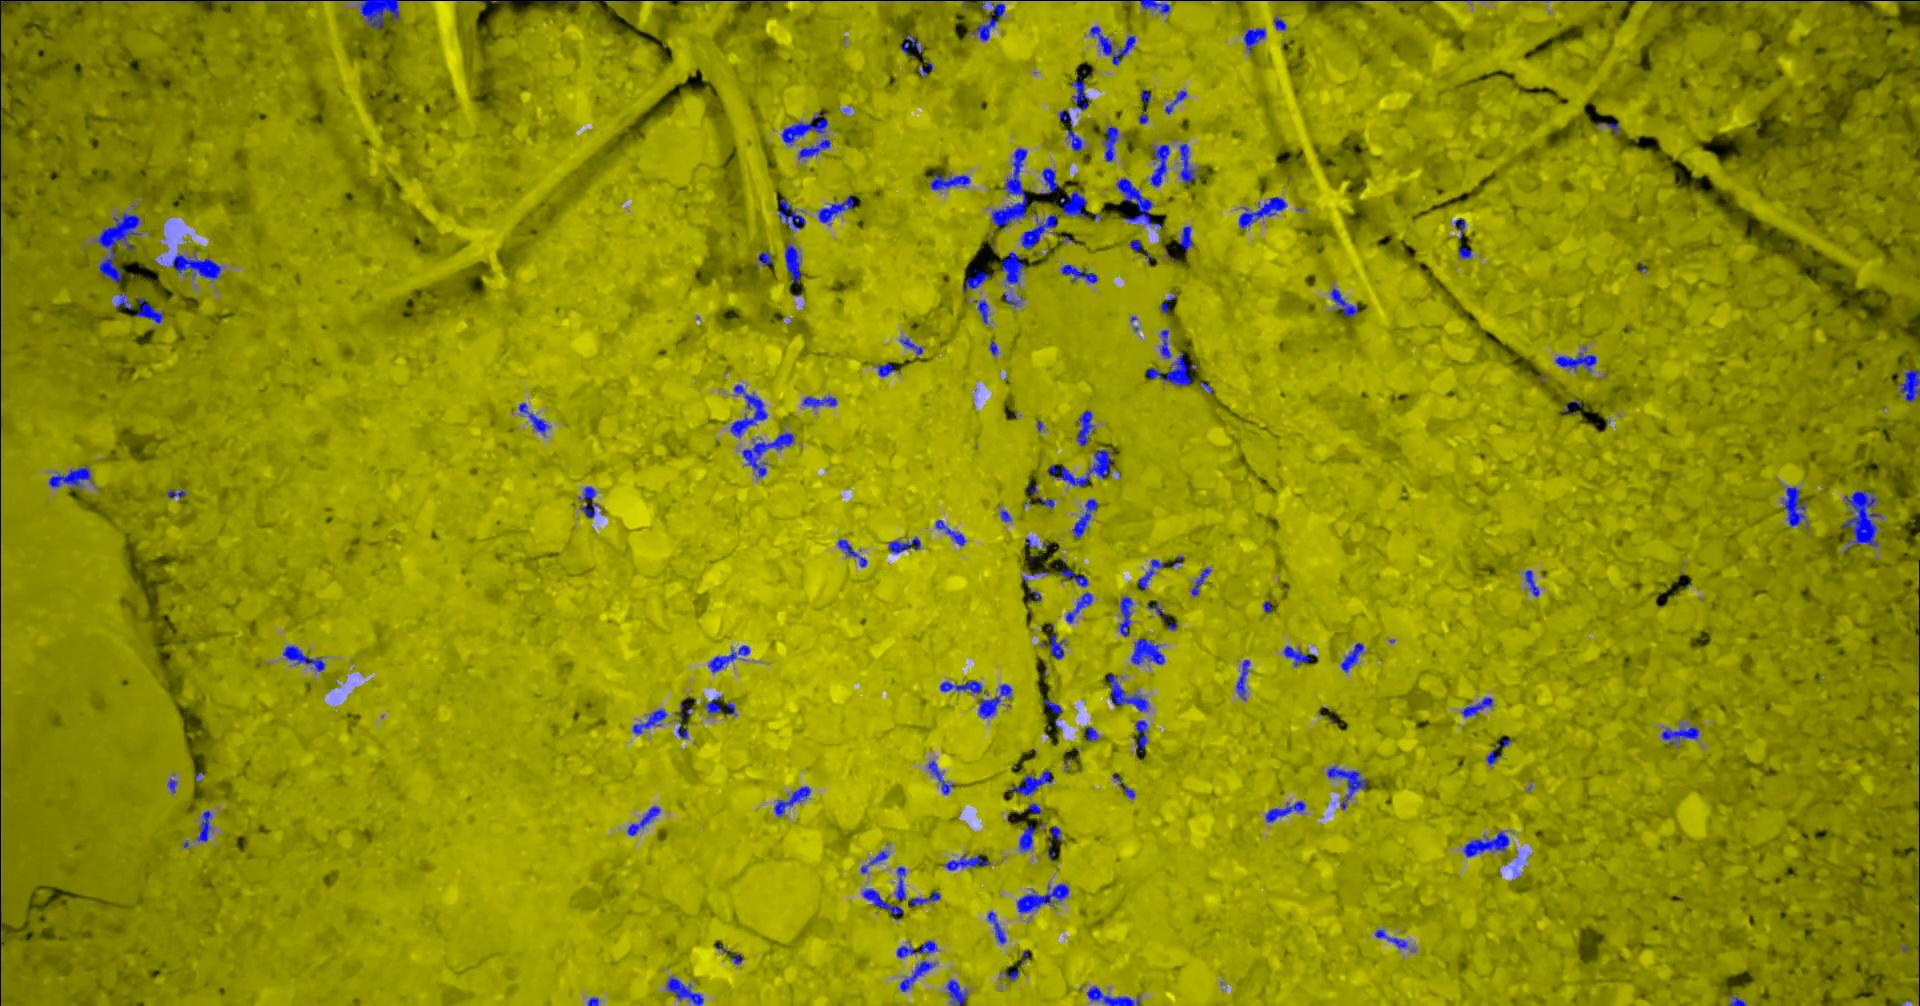ant: (990, 147, 1031, 227), (1048, 448, 1114, 486), (742, 432, 794, 478), (1116, 177, 1161, 229), (729, 384, 767, 437), (1326, 763, 1368, 809), (1090, 25, 1135, 64), (894, 866, 940, 904), (1145, 352, 1196, 385), (1106, 673, 1148, 711), (1238, 196, 1286, 229), (1016, 883, 1068, 912), (781, 111, 827, 144), (171, 253, 221, 279), (1020, 213, 1057, 249), (861, 888, 902, 920), (1006, 768, 1053, 795), (1463, 829, 1509, 856), (971, 3, 1004, 39), (358, 0, 399, 29), (1070, 498, 1098, 539), (978, 683, 1011, 718), (707, 645, 749, 672), (817, 194, 855, 224), (665, 976, 703, 1005), (899, 960, 935, 991), (773, 786, 810, 815), (282, 645, 324, 671), (1086, 986, 1140, 1005), (1782, 486, 1807, 527), (518, 401, 549, 434), (1058, 109, 1082, 150), (626, 805, 659, 835), (1130, 638, 1164, 664), (1057, 189, 1087, 218), (777, 197, 805, 229), (48, 466, 91, 486), (1265, 800, 1305, 822), (927, 760, 952, 794), (1554, 352, 1596, 372), (1137, 559, 1164, 589), (632, 708, 665, 733), (1330, 288, 1357, 318), (837, 539, 866, 567), (1065, 592, 1092, 622), (1150, 144, 1170, 185), (1178, 144, 1199, 182), (935, 520, 965, 545), (1001, 251, 1023, 285), (1896, 368, 1919, 401), (943, 854, 988, 870), (797, 138, 830, 160), (135, 297, 163, 323), (1026, 483, 1054, 508), (1060, 264, 1097, 283), (930, 171, 969, 189), (783, 243, 800, 285), (963, 267, 990, 291), (1283, 645, 1316, 666), (1340, 641, 1363, 671), (897, 940, 936, 956), (860, 850, 888, 873), (1076, 409, 1093, 445), (1661, 727, 1699, 743), (1374, 929, 1407, 948), (1070, 75, 1088, 109), (578, 486, 597, 518), (938, 680, 982, 694), (1462, 697, 1492, 716), (1236, 659, 1250, 700), (987, 911, 1004, 942), (1103, 124, 1119, 161), (1243, 27, 1265, 52), (946, 979, 968, 1005), (1190, 568, 1210, 594), (1044, 699, 1062, 729), (1039, 166, 1058, 194), (888, 536, 919, 553), (1164, 90, 1186, 114), (1119, 596, 1131, 636), (1060, 567, 1087, 586), (196, 810, 211, 841), (1147, 600, 1167, 621), (1134, 720, 1147, 754), (1018, 823, 1034, 851), (900, 34, 921, 55), (899, 337, 922, 354), (1524, 569, 1539, 596), (1139, 0, 1170, 13), (1049, 634, 1064, 659), (803, 395, 836, 406), (973, 298, 988, 323), (1178, 225, 1192, 250), (1159, 329, 1171, 358), (116, 291, 131, 309), (877, 362, 897, 376), (705, 696, 720, 713), (1003, 965, 1018, 981), (1453, 218, 1464, 238), (918, 61, 932, 76), (1486, 749, 1501, 763), (757, 251, 771, 265), (1083, 727, 1097, 741), (676, 721, 687, 738), (1023, 803, 1040, 814), (1272, 17, 1285, 30), (1050, 826, 1062, 841), (1728, 995, 1745, 1005), (1457, 246, 1470, 258), (1140, 89, 1150, 104), (1129, 239, 1140, 251), (0, 105, 1, 180)
